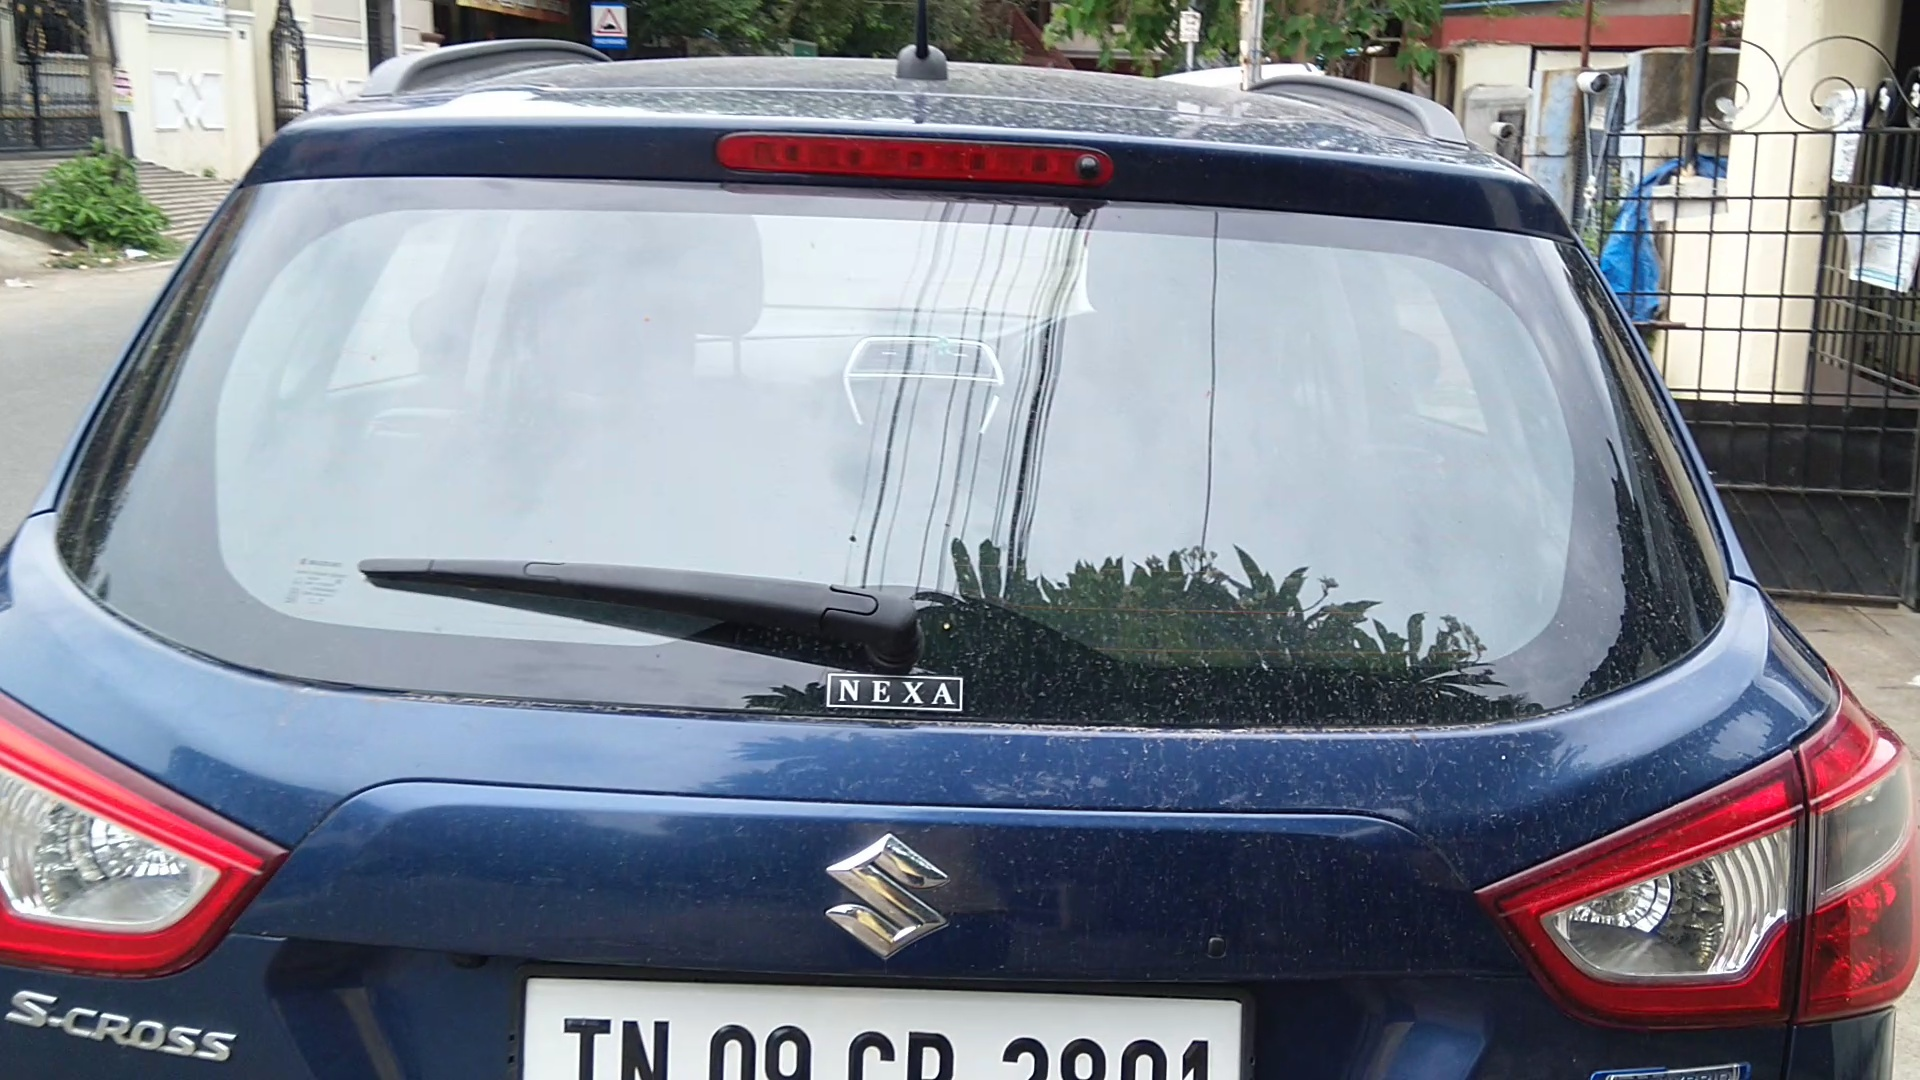rear_camera: (1073, 146, 1109, 190)
